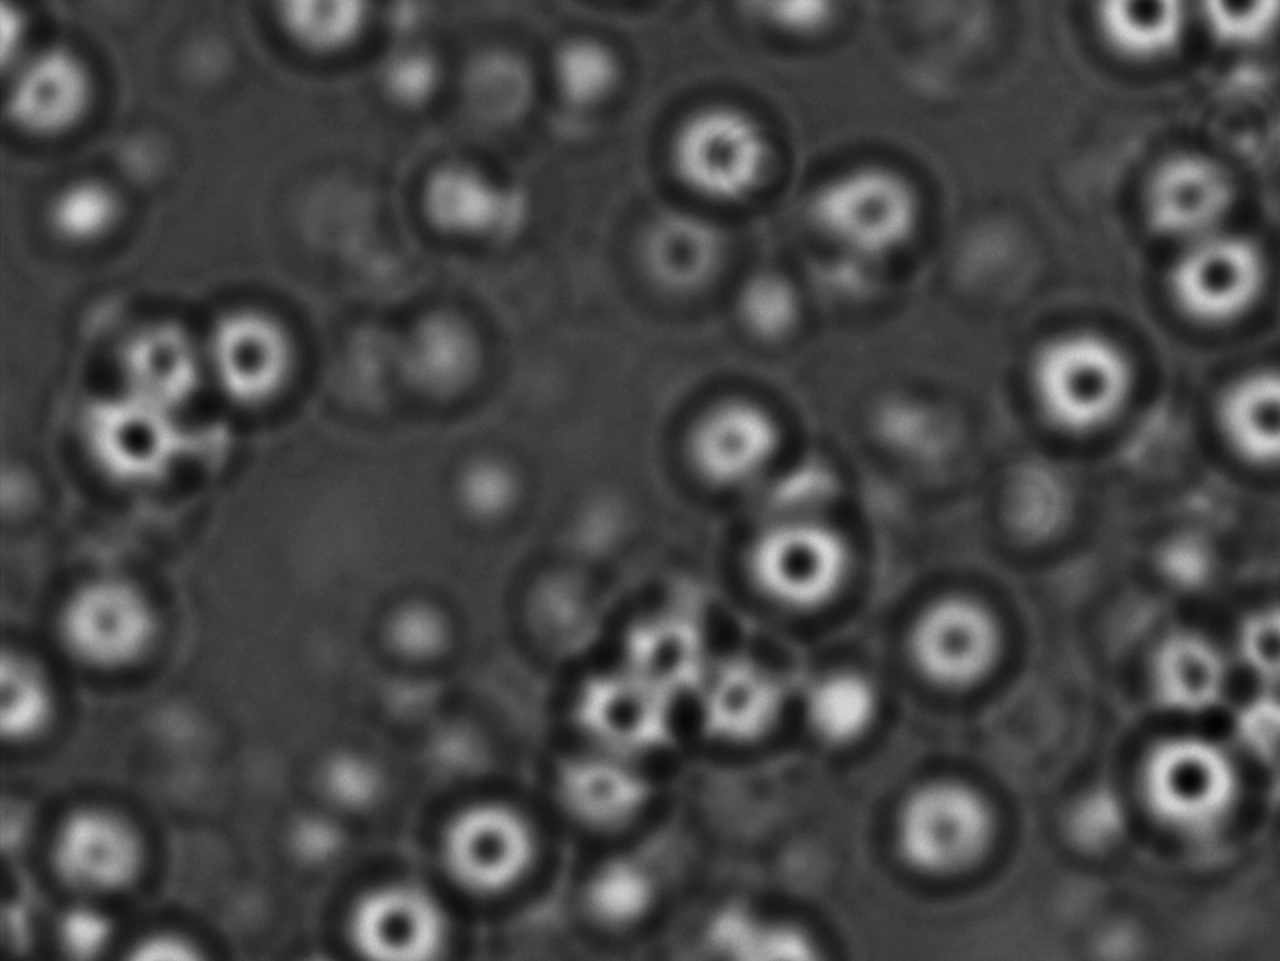depth:32: (1015, 298, 1160, 452), (182, 281, 332, 425), (1114, 718, 1257, 843), (890, 568, 1023, 697), (808, 157, 939, 281), (731, 508, 860, 625), (653, 86, 777, 207), (1154, 216, 1272, 343), (333, 863, 481, 961), (428, 785, 546, 906)
